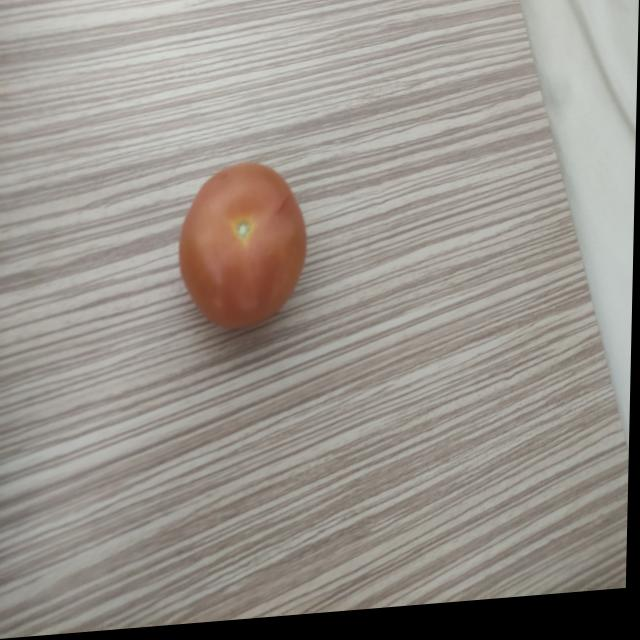sari: (161, 154, 326, 339)
